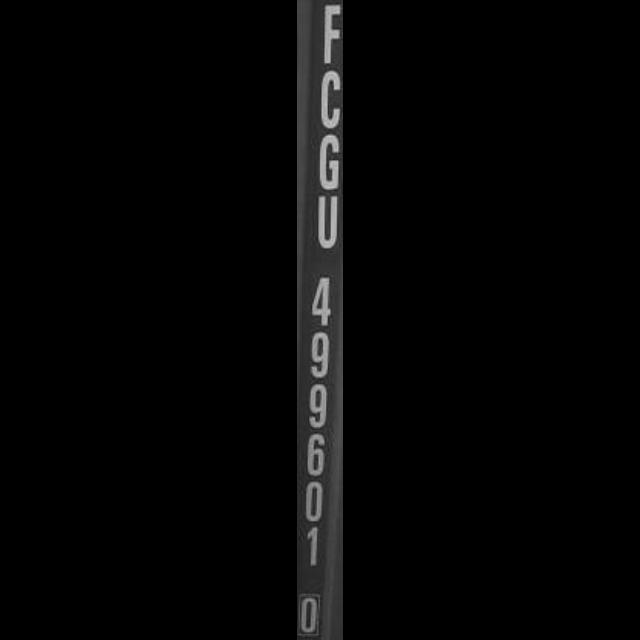0: (300, 476, 326, 526), (300, 588, 324, 636)
1: (301, 522, 329, 572)
4: (305, 272, 343, 331)
6: (298, 434, 334, 478)
9: (300, 378, 336, 434), (302, 324, 334, 382)
c: (313, 64, 343, 132)
f: (315, 0, 343, 70)
g: (305, 130, 343, 196)
u: (313, 192, 343, 250)
